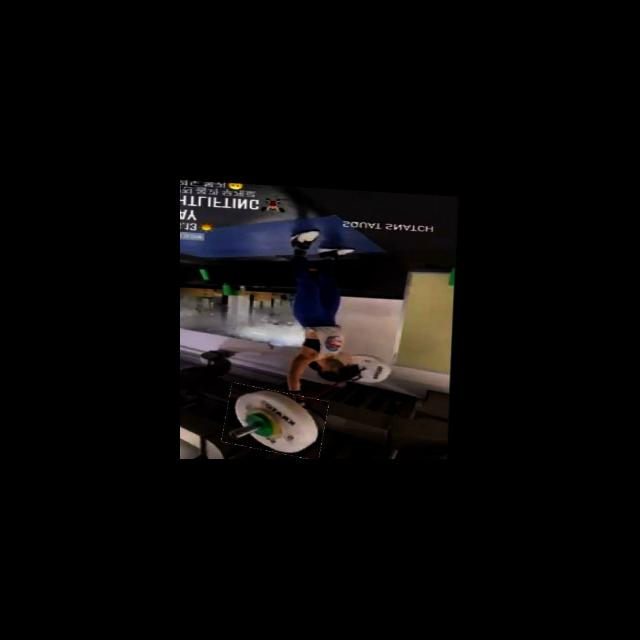barbell: (225, 384, 330, 456)
